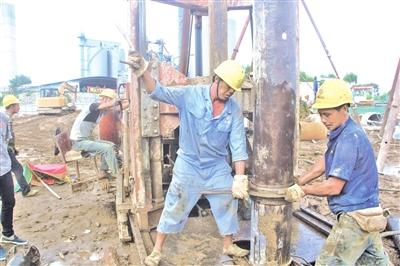boots: (223, 242, 250, 257), (0, 232, 28, 244), (144, 251, 161, 266), (23, 189, 40, 196)
gloves: (126, 50, 149, 78), (231, 174, 248, 200), (284, 183, 306, 203)
hard-hat: (312, 78, 353, 108), (213, 59, 245, 92), (3, 93, 22, 107), (99, 88, 117, 99)
person: (127, 50, 250, 266), (284, 78, 392, 266), (1, 91, 39, 245), (69, 88, 128, 181)
ppe-suit: (147, 79, 249, 237)
